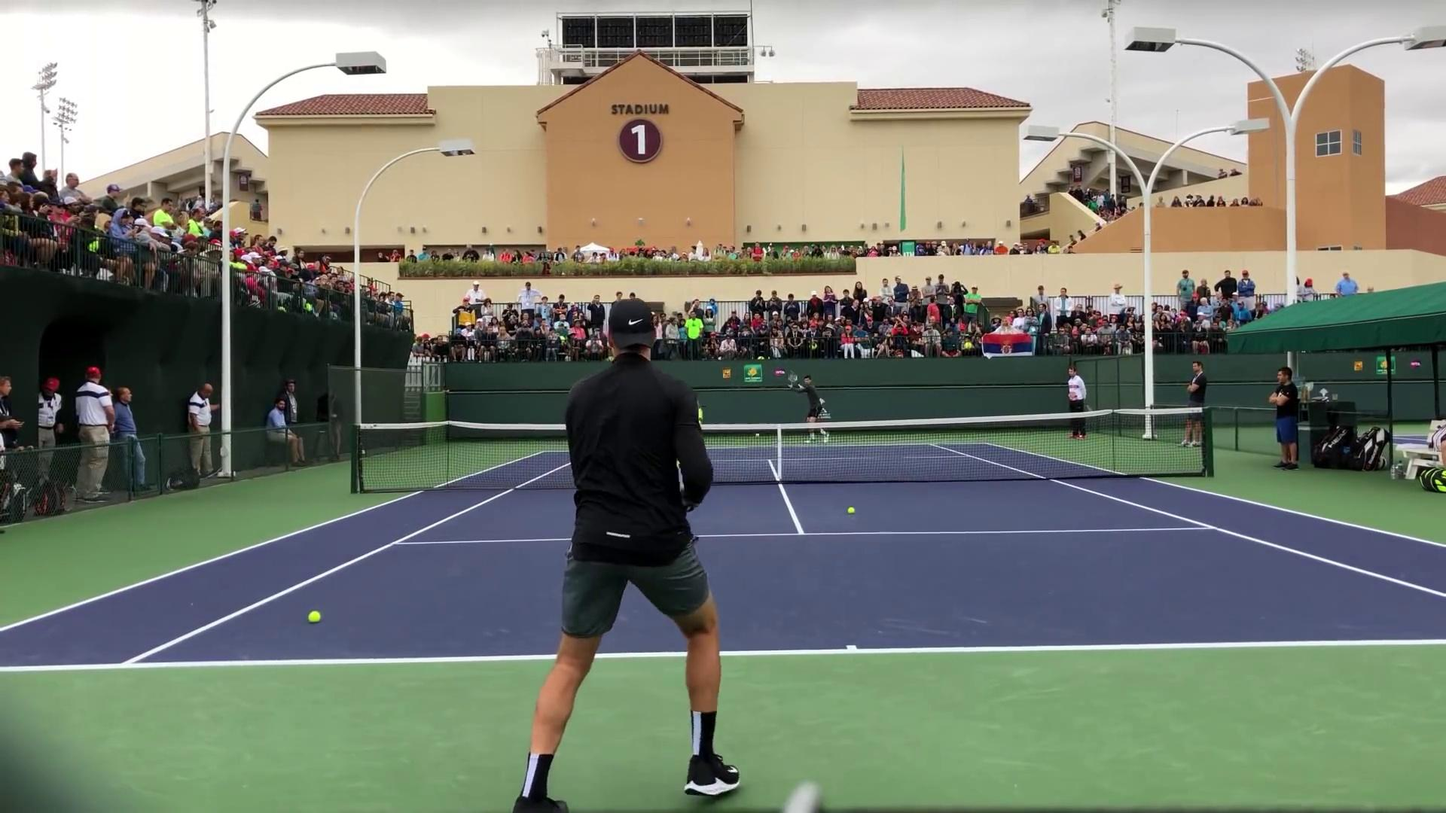ball: (306, 611, 320, 622), (847, 506, 855, 514), (754, 431, 760, 438)
